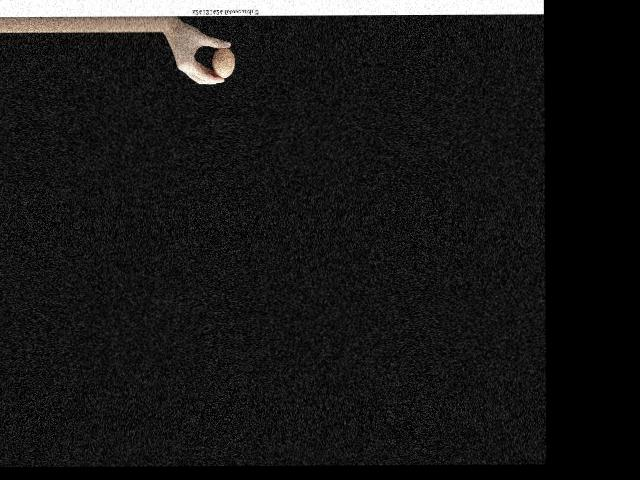egg: (212, 47, 235, 78)
